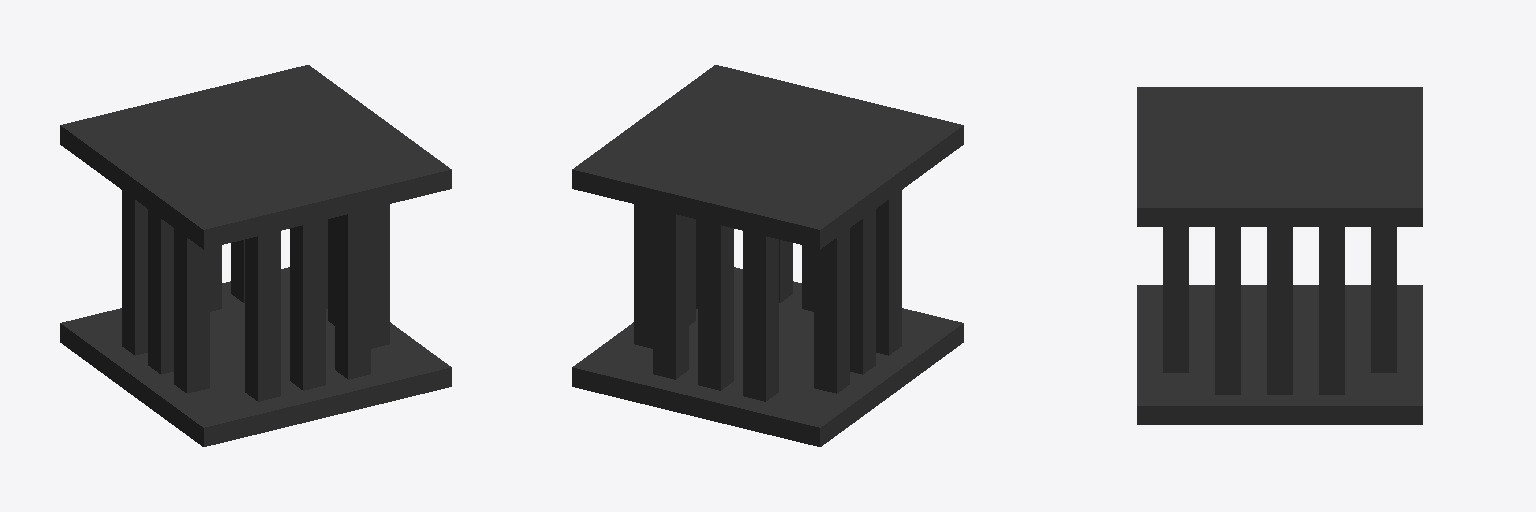
The model's file is JaulaModel.obj.
The picture shows the model from 3 angles: view 1: azimuth 30°, elevation 25°; view 2: azimuth 150°, elevation 25°; view 3: azimuth 270°, elevation 25°; orthographic projection.
Visible parts, largest first — view 1: Box002; view 2: Box002; view 3: Box002.
Boxes of the visible parts, box(x1,y1,x2,y2) form: Box002: box(60, 65, 451, 446); Box002: box(572, 65, 963, 446); Box002: box(1137, 87, 1422, 424).
Size of the model in its own units: 200 by 167 by 200.